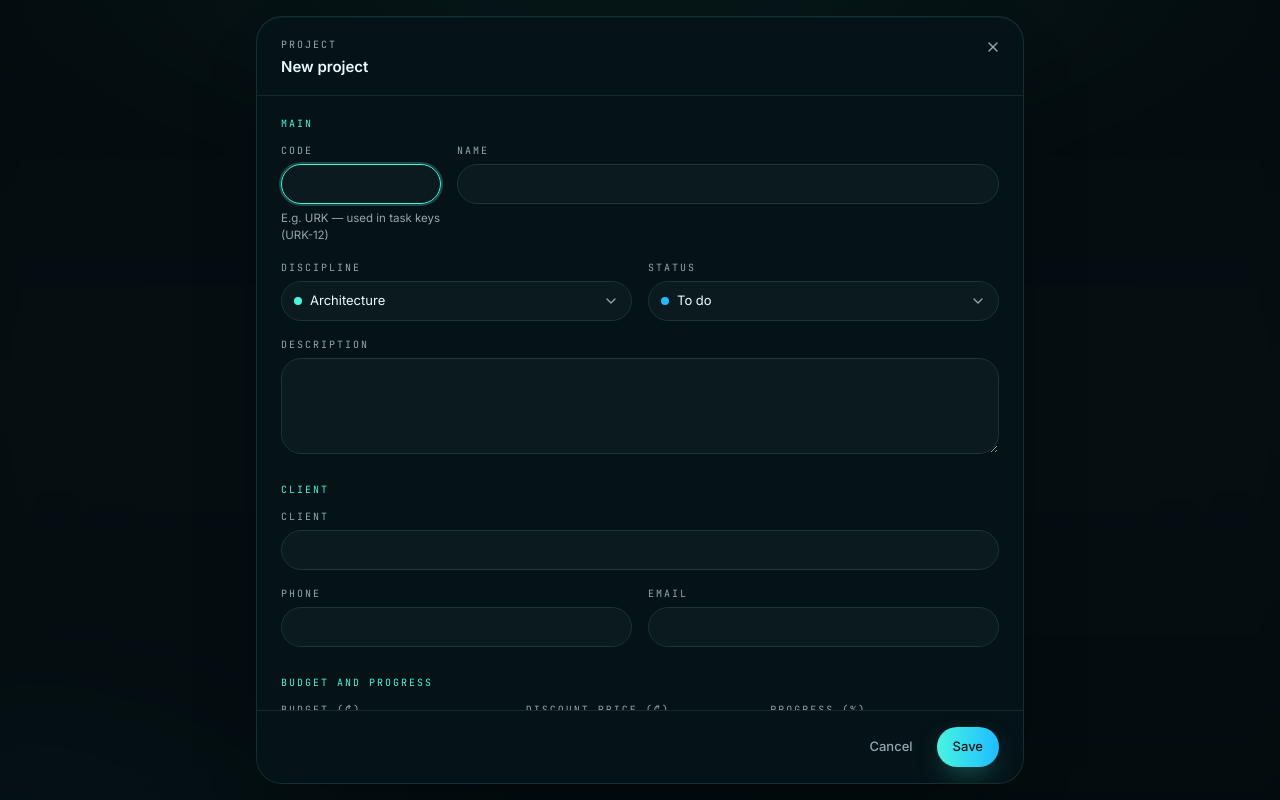
Test case: ProjectFormDialog › validates required fields and the key format
This screenshot has width=1280, height=800.
Type "1x" into the field labelled "Code" at (361, 184), box [281,164,441,204]
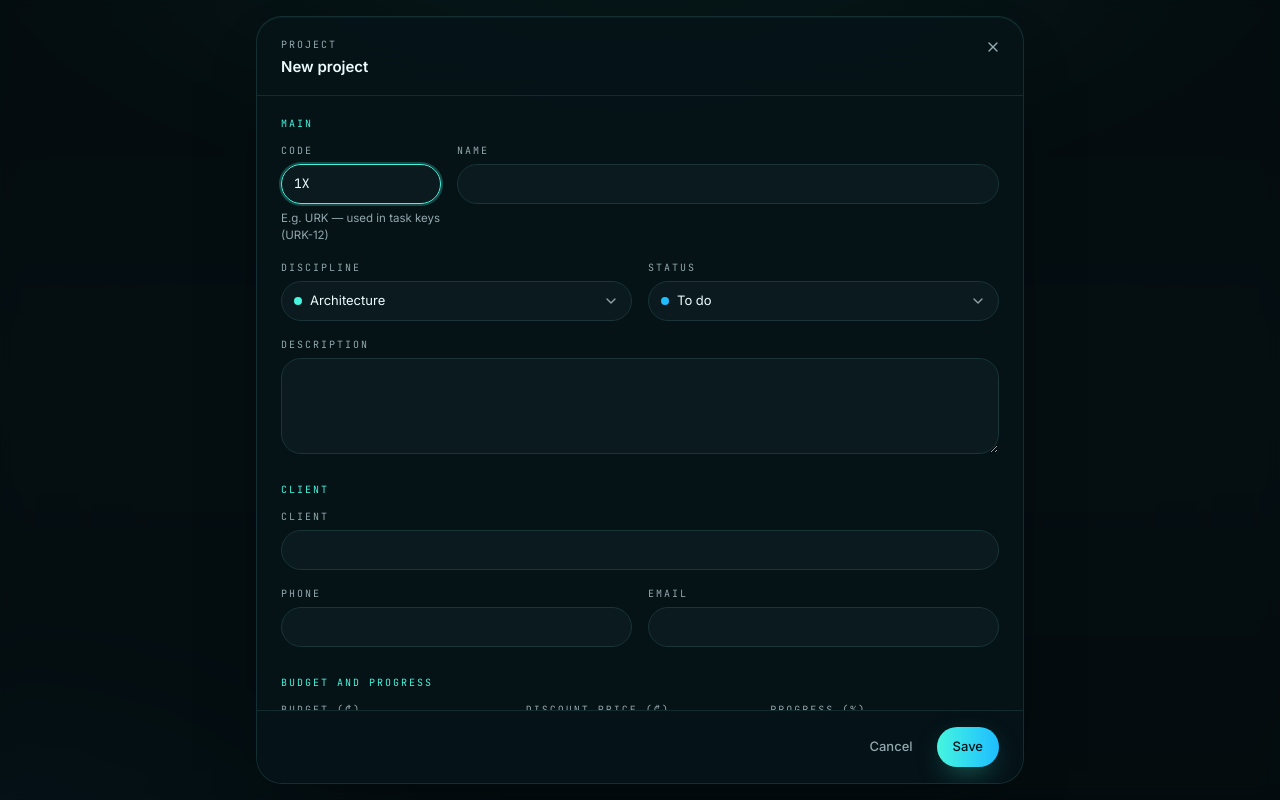
Click the button "Save" at (968, 747), box [936,727,999,767]
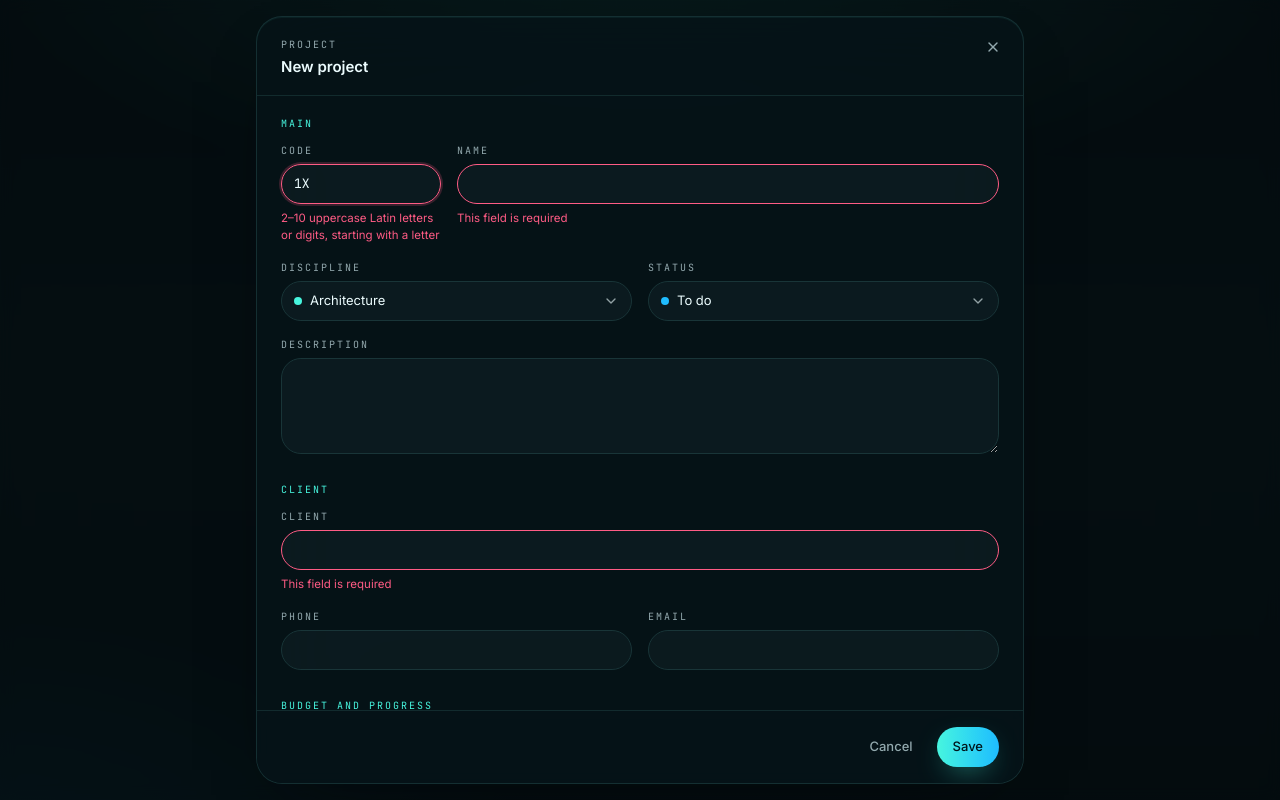
Expected: the text "2–10 uppercase Latin letters or digits, starting with a letter" is shown, [281,210,441,244]
